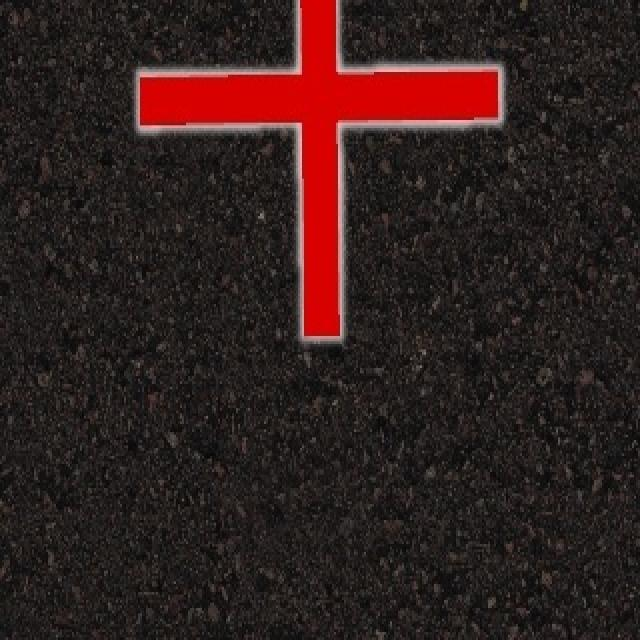x_marker: (139, 0, 499, 336)
